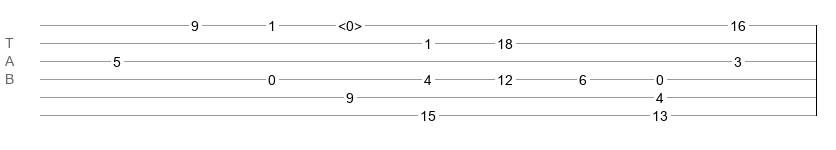0: (268, 72, 276, 82), (656, 72, 664, 82)
1: (268, 18, 276, 28), (424, 36, 432, 46)
12: (497, 72, 513, 82)
13: (652, 108, 668, 118)
15: (420, 108, 436, 118)
16: (730, 18, 746, 28)
18: (497, 36, 513, 46)
3: (734, 54, 742, 64)
4: (424, 72, 432, 82), (656, 90, 664, 100)
5: (113, 54, 121, 64)
6: (579, 72, 587, 82)
9: (191, 18, 199, 28), (346, 90, 354, 100)
harmonic: (338, 18, 362, 28)
